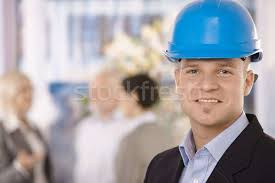Person_wearing_helmet: (152, 0, 263, 79)
